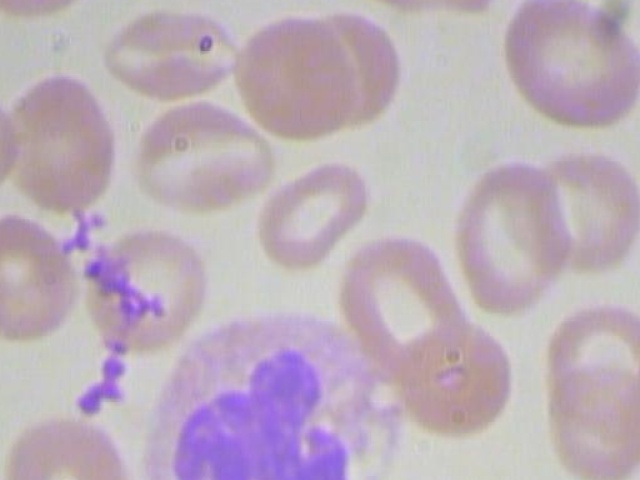RBC: (445, 159, 577, 319), (127, 91, 287, 216), (497, 0, 640, 135), (230, 11, 358, 150), (84, 218, 208, 357), (0, 70, 124, 209), (390, 309, 514, 448), (517, 140, 640, 279), (251, 148, 372, 282), (92, 1, 242, 101), (0, 207, 77, 346), (6, 411, 131, 480), (0, 67, 24, 204), (0, 0, 109, 26), (351, 0, 511, 17)
WBC: (134, 298, 421, 480)
